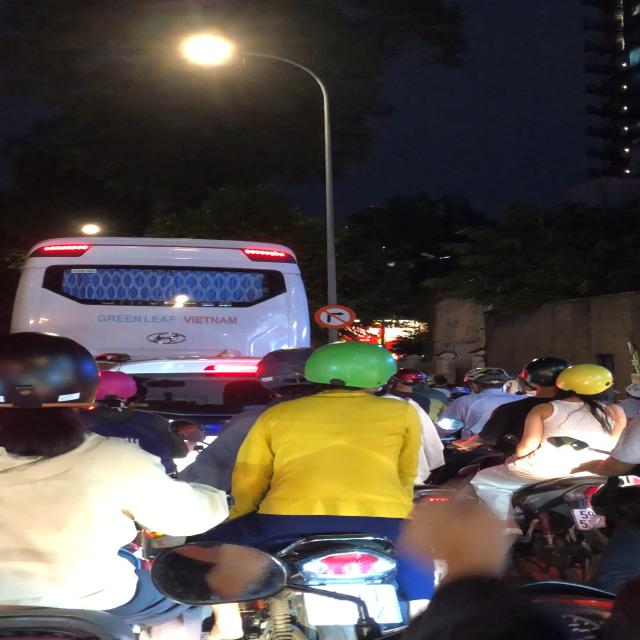Bien bao cam re phai: (313, 304, 359, 328)
